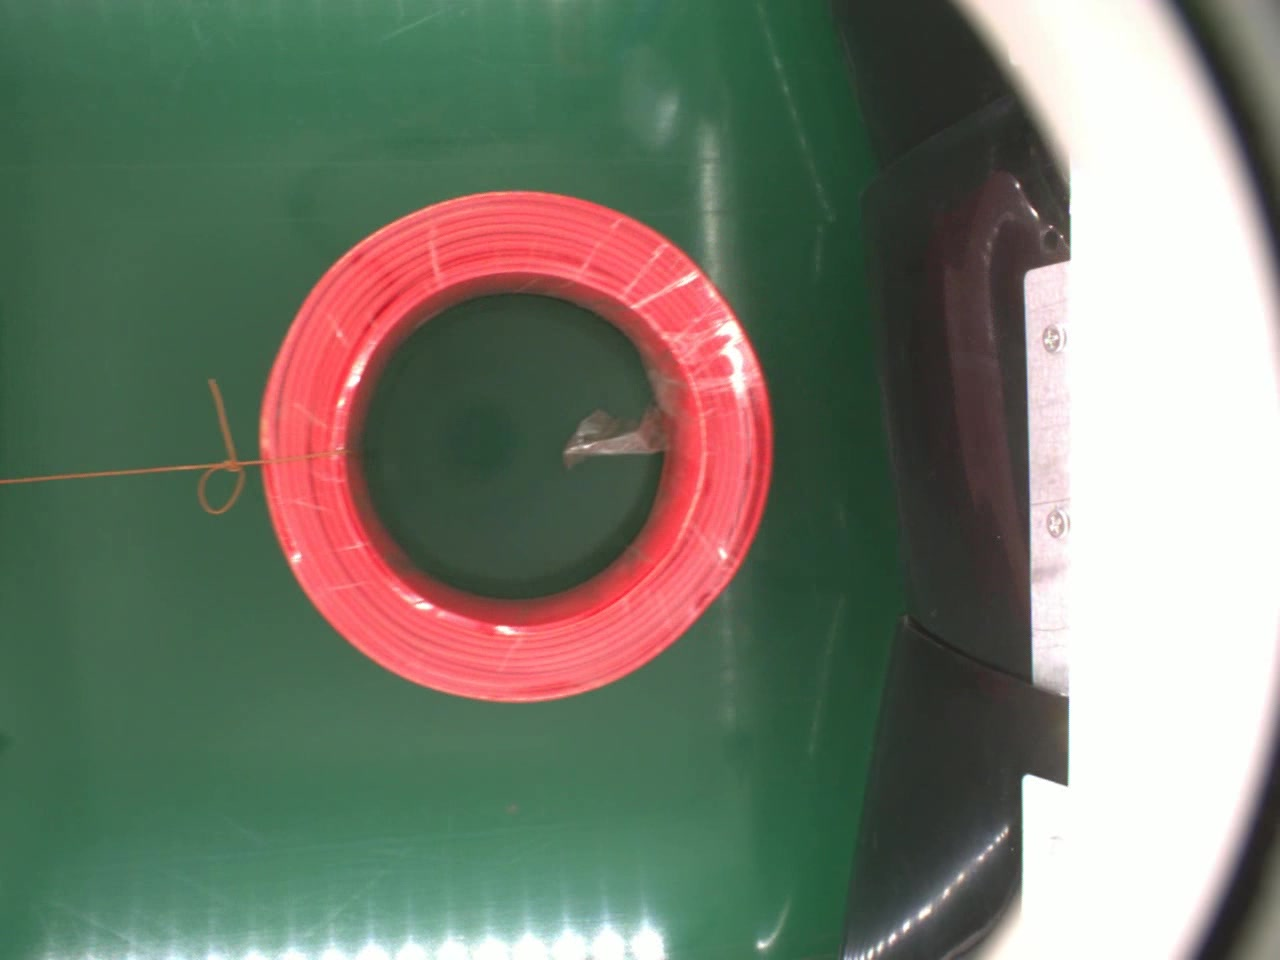red: (265, 187, 772, 707)
